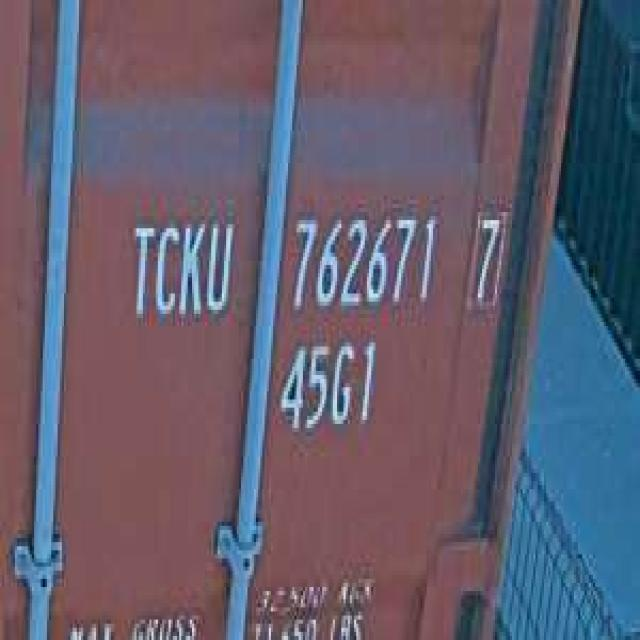dv: (467, 204, 510, 318)
owner: (124, 204, 237, 334)
serial: (286, 196, 439, 322)
size: (275, 330, 380, 444)
